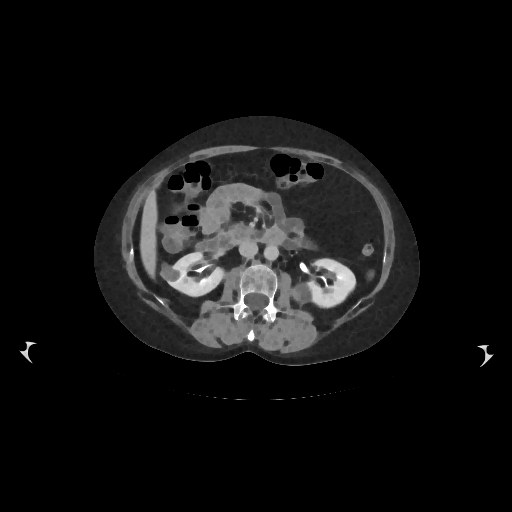Lesion: (158, 256, 184, 285)
